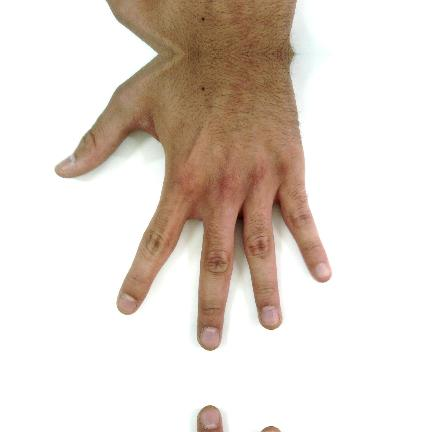Nail: (117, 293, 137, 315), (200, 328, 219, 348), (261, 306, 280, 326), (200, 408, 219, 428), (313, 263, 332, 282), (55, 154, 75, 171), (264, 430, 277, 432)
